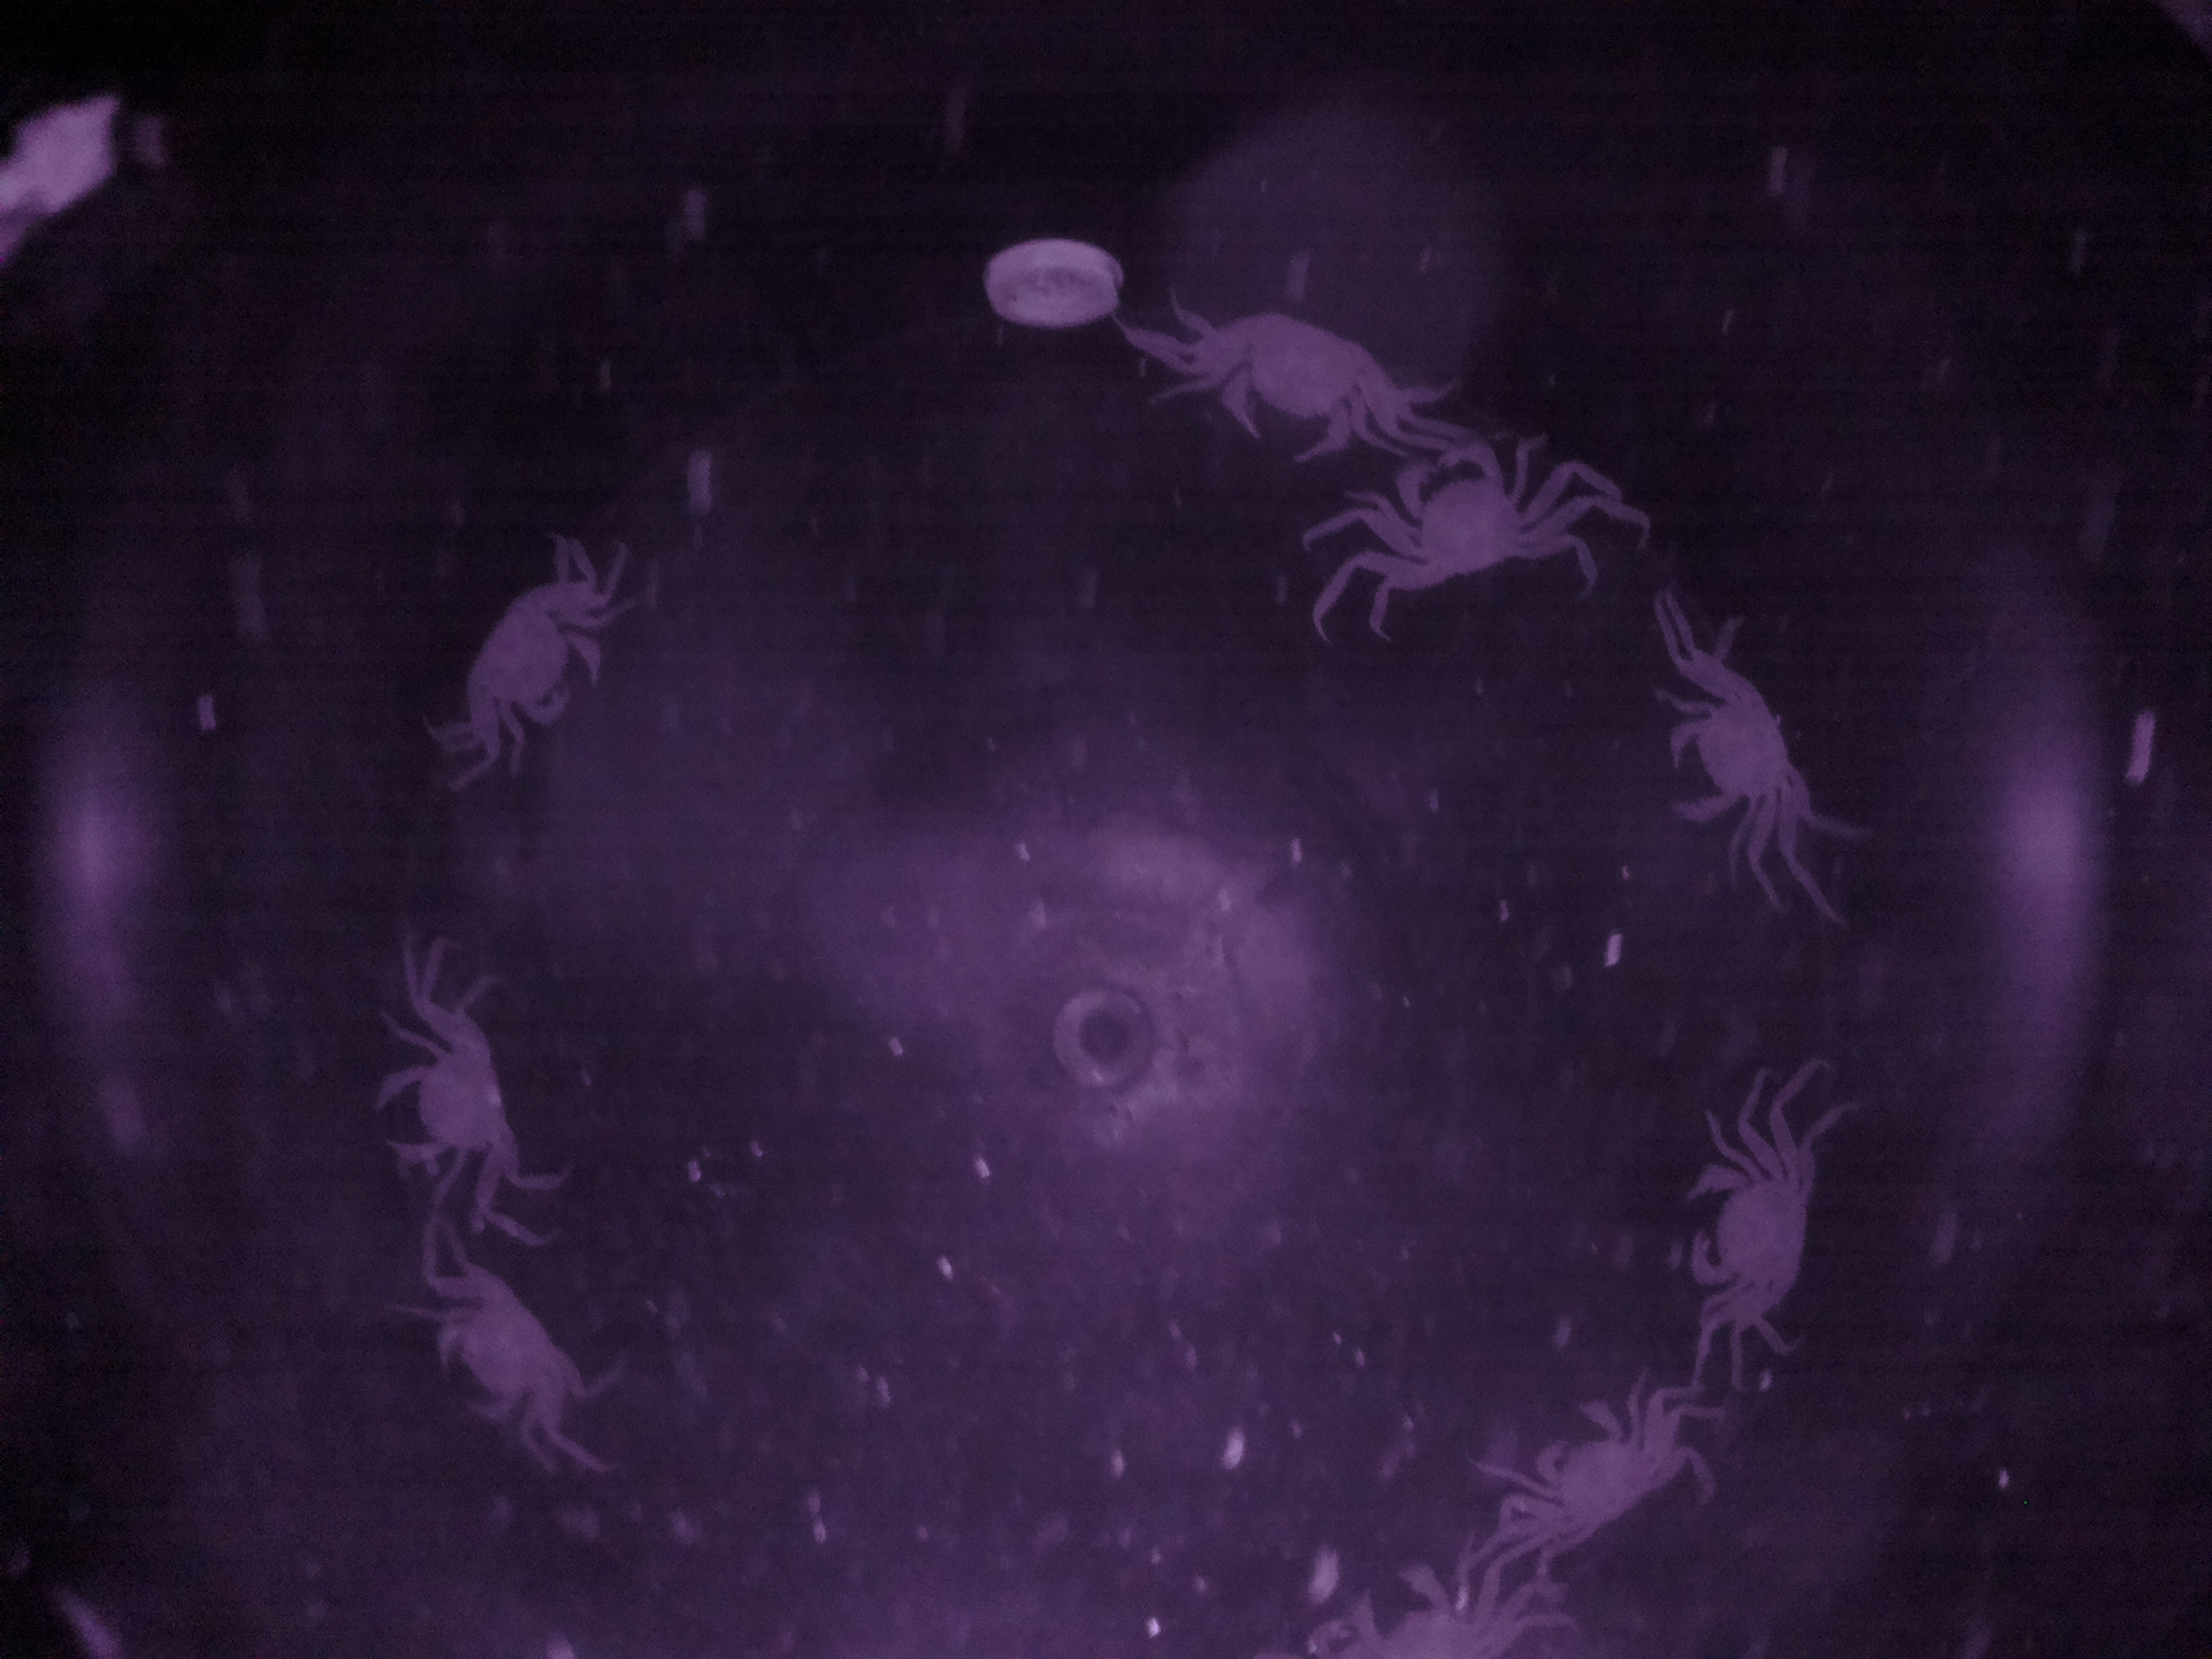Crab: (1642, 626, 1839, 857), (1184, 281, 1409, 481), (345, 1016, 543, 1202), (1663, 1134, 1843, 1326), (1385, 420, 1550, 620), (456, 561, 625, 753), (1503, 1377, 1676, 1561)
